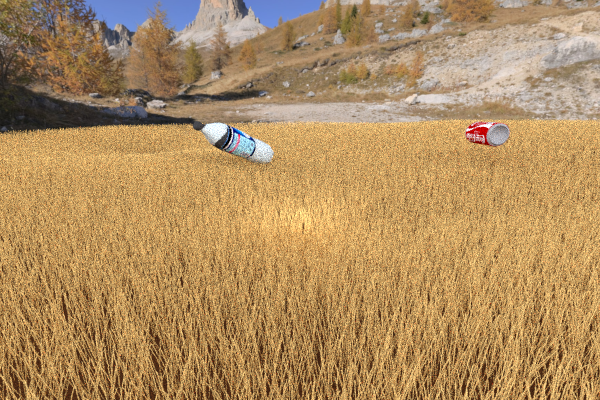bottle: (192, 121, 273, 164)
can: (122, 126, 171, 150), (465, 121, 509, 146)
